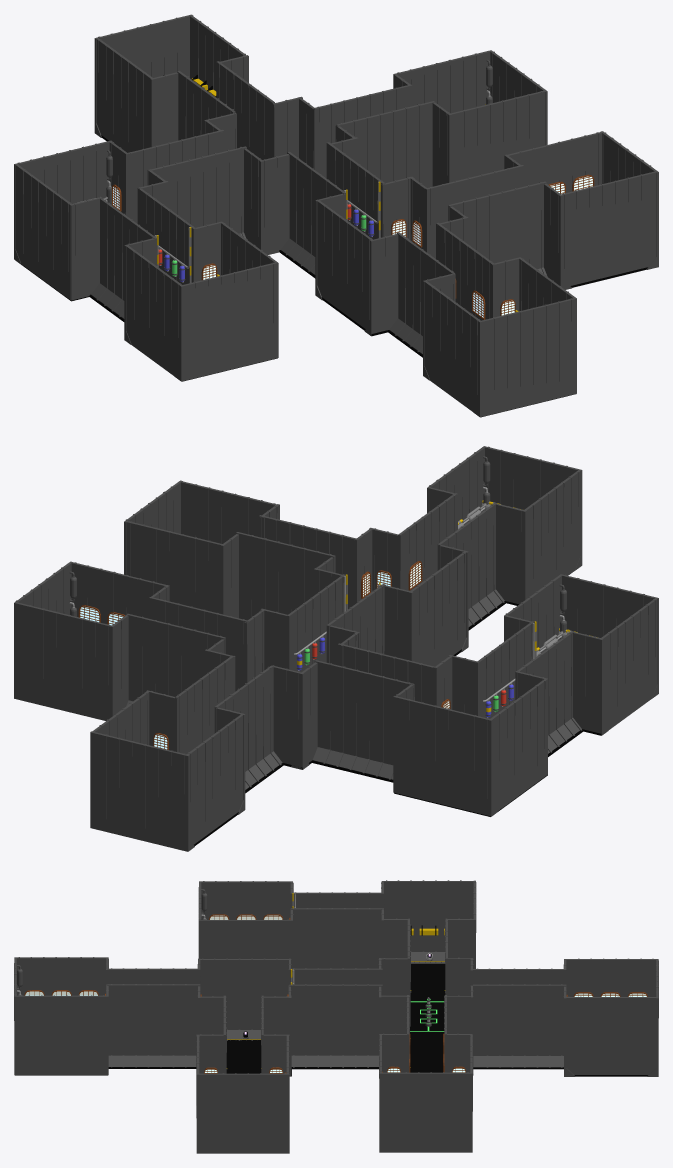
Rendered from Level2.fbx.
The picture shows the model from 3 angles, top to bottom: view 1: azimuth 30°, elevation 25°; view 2: azimuth 150°, elevation 25°; view 3: azimuth 270°, elevation 25°; orthographic projection. The views are drawn at different scales.
Visible parts, largest first — view 1: Wall2.015, Wall2.017, Wall1.017, Wall3.014, СТЕНИЩЕ 2.020, Wall1.015, СТЕНИЩЕ 2.015, СТЕНИЩЕ 2.018, Wall3.016, Wall3.015, Wall4.008, Wall3.013 (+34 smaller); view 2: Wall1.013, Wall2.014, Wall2.013, СТЕНИЩЕ 2.017, Wall3.017, СТЕНИЩЕ 2.014, СТЕНИЩЕ 2.019, Wall1.015, Wall3.015, Wall3.013, Wall4.008, Wall3.016 (+34 smaller); view 3: СТЕНИЩЕ 2.011, Wall2.012, Wall1.016, Wall2.018, СТЕНИЩЕ 2.022, WallWithCapsules.007, Wall1.014, WallWithCapsules.005, Wall1.015, Wall4.008, Wall2.016, Wall3.013 (+16 smaller).
Part boxes in pixels (x1,y1,x2,y2): Wall2.015: (174, 262, 278, 381); Wall2.017: (473, 298, 576, 417); Wall1.017: (561, 171, 656, 287); Wall3.014: (450, 91, 544, 181); СТЕНИЩЕ 2.020: (448, 181, 547, 276); Wall1.015: (15, 164, 71, 300); СТЕНИЩЕ 2.015: (336, 101, 434, 187); СТЕНИЩЕ 2.018: (151, 146, 246, 239); Wall3.016: (424, 281, 480, 411); Wall3.015: (126, 245, 183, 376); Wall4.008: (317, 199, 372, 328); Wall3.013: (96, 38, 152, 152); Wall1.013: (90, 731, 194, 851); Wall2.014: (393, 696, 497, 816); Wall2.013: (14, 602, 113, 720); СТЕНИЩЕ 2.017: (313, 660, 410, 779); Wall3.017: (126, 521, 222, 613); СТЕНИЩЕ 2.014: (126, 613, 225, 705); СТЕНИЩЕ 2.019: (236, 532, 335, 620); Wall1.015: (490, 679, 547, 810); Wall3.015: (601, 598, 657, 729); Wall3.013: (186, 714, 243, 844); Wall4.008: (408, 552, 466, 666); Wall3.016: (524, 470, 580, 596); СТЕНИЩЕ 2.011: (473, 984, 566, 1067); Wall2.012: (379, 1072, 472, 1152); Wall1.016: (196, 1073, 289, 1153); Wall2.018: (15, 995, 107, 1075); СТЕНИЩЕ 2.022: (107, 984, 200, 1067); WallWithCapsules.007: (289, 982, 382, 1067); Wall1.014: (566, 996, 656, 1074); WallWithCapsules.005: (291, 906, 381, 968); Wall1.015: (384, 880, 473, 963); Wall4.008: (200, 958, 291, 1040); Wall2.016: (199, 919, 292, 968); Wall3.013: (564, 958, 657, 996).
Bounding box in the file's own units: 58722 × 11570 × 82811.
